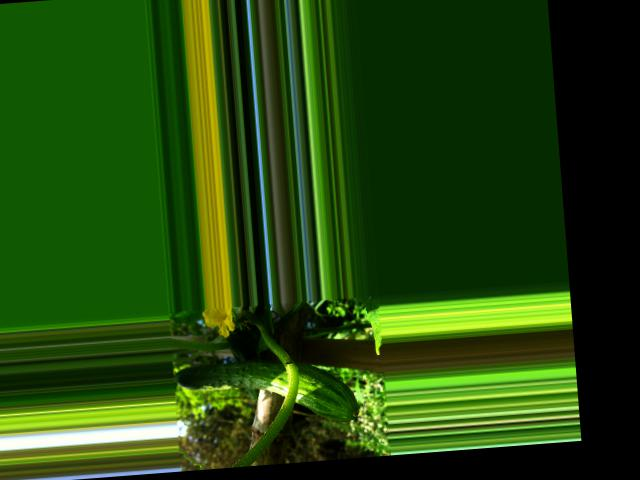cucumber: (172, 352, 359, 433)
